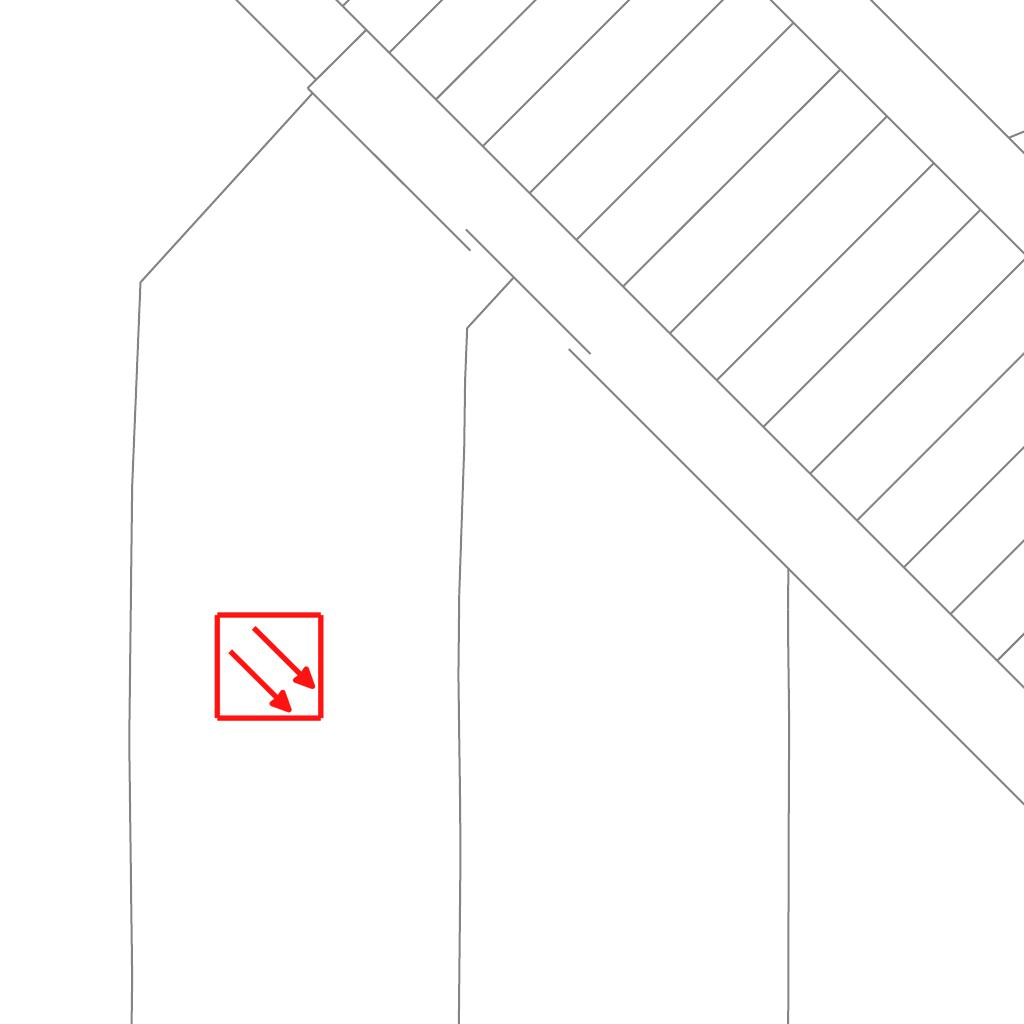RMO_Rauchmelder_optischer: (213, 610, 326, 723)
